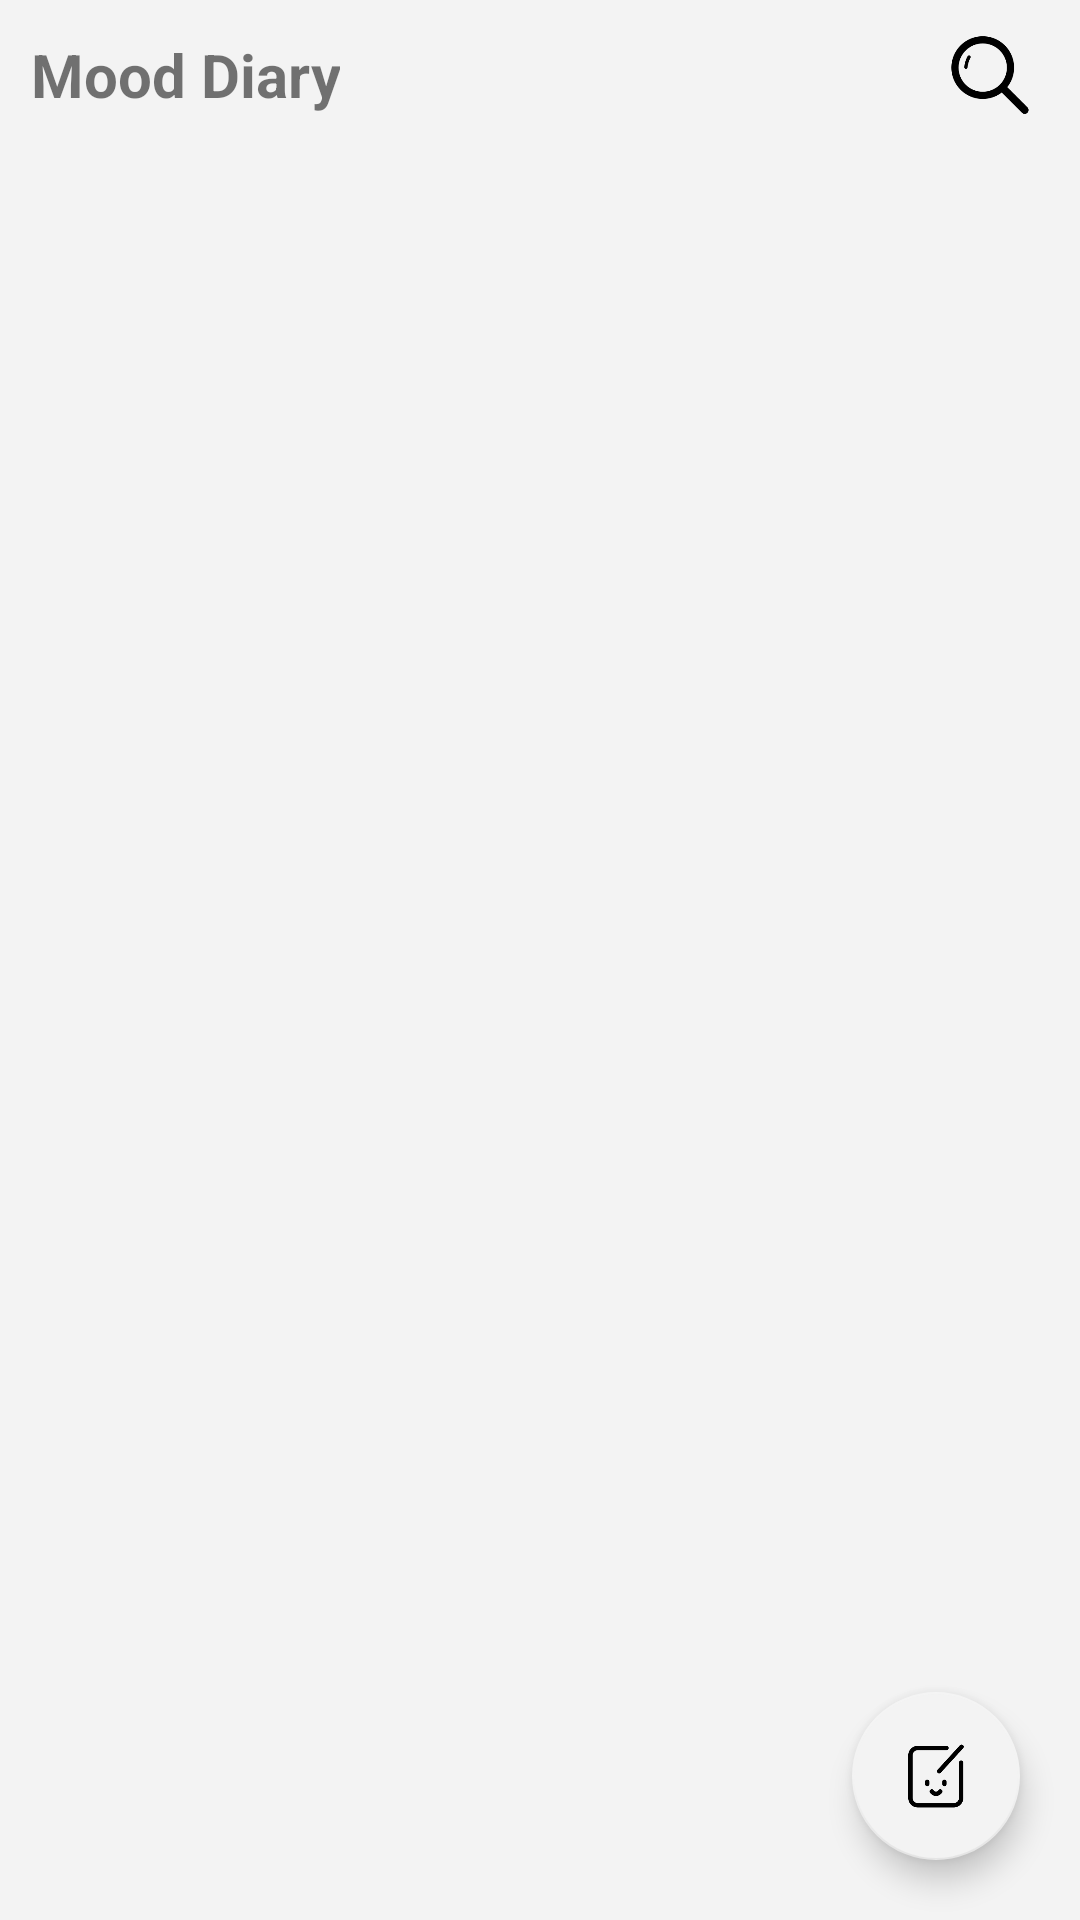

Named icons in this screenshot (1080×1920) and their bounding boxes, rect(x1, y1, x2, y2):
add: rect(858, 1744, 1020, 1860)
search: rect(951, 36, 1029, 114)
